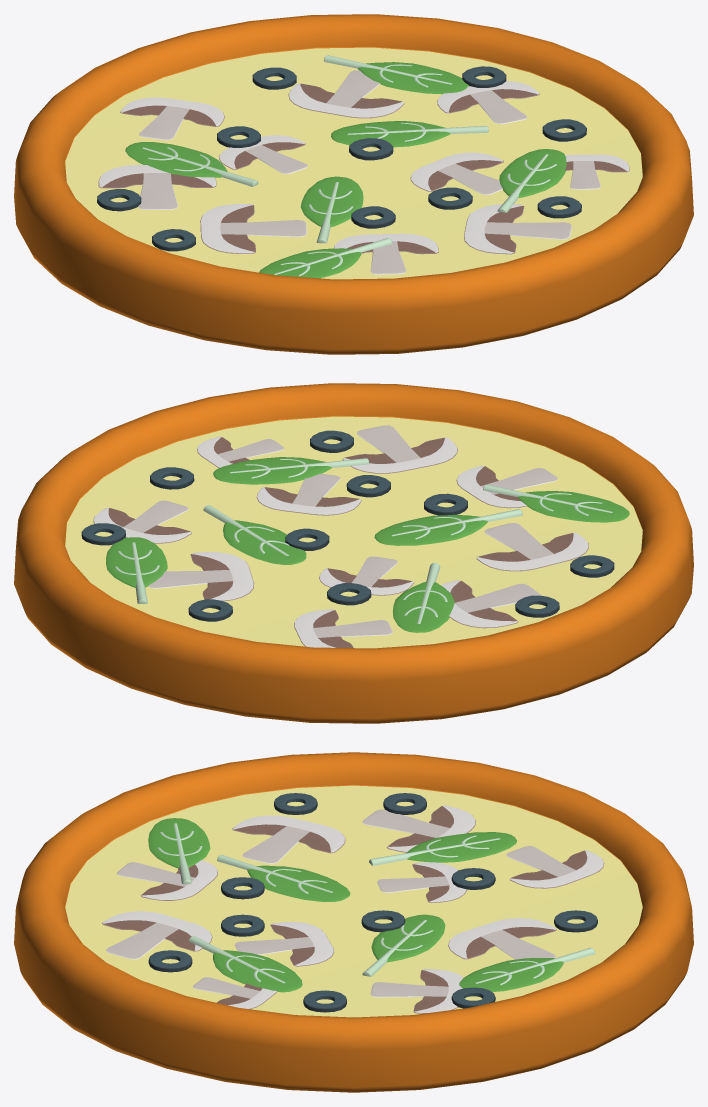
The model's file is Pizza.fbx.
3 renders of one model, top to bottom at view 1: azimuth 30°, elevation 25°; view 2: azimuth 150°, elevation 25°; view 3: azimuth 270°, elevation 25°, orthographic.
Visible parts, largest first — view 1: Pizza; view 2: Pizza; view 3: Pizza.
Part boxes in pixels (box(x1,y1,x2,y2)): Pizza: box(14, 14, 693, 354); Pizza: box(14, 383, 693, 723); Pizza: box(14, 752, 693, 1092).
Bounding box in the file's own units: 52.01 × 5.55 × 52.01.
